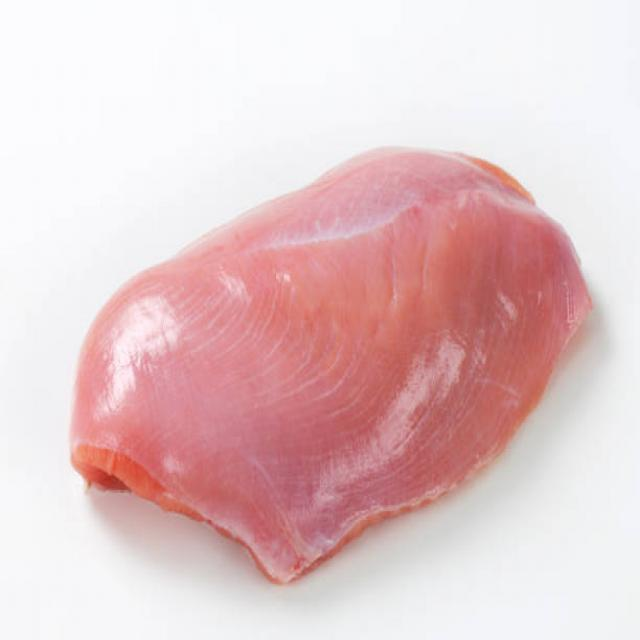chicken thigh: (74, 105, 581, 568)
